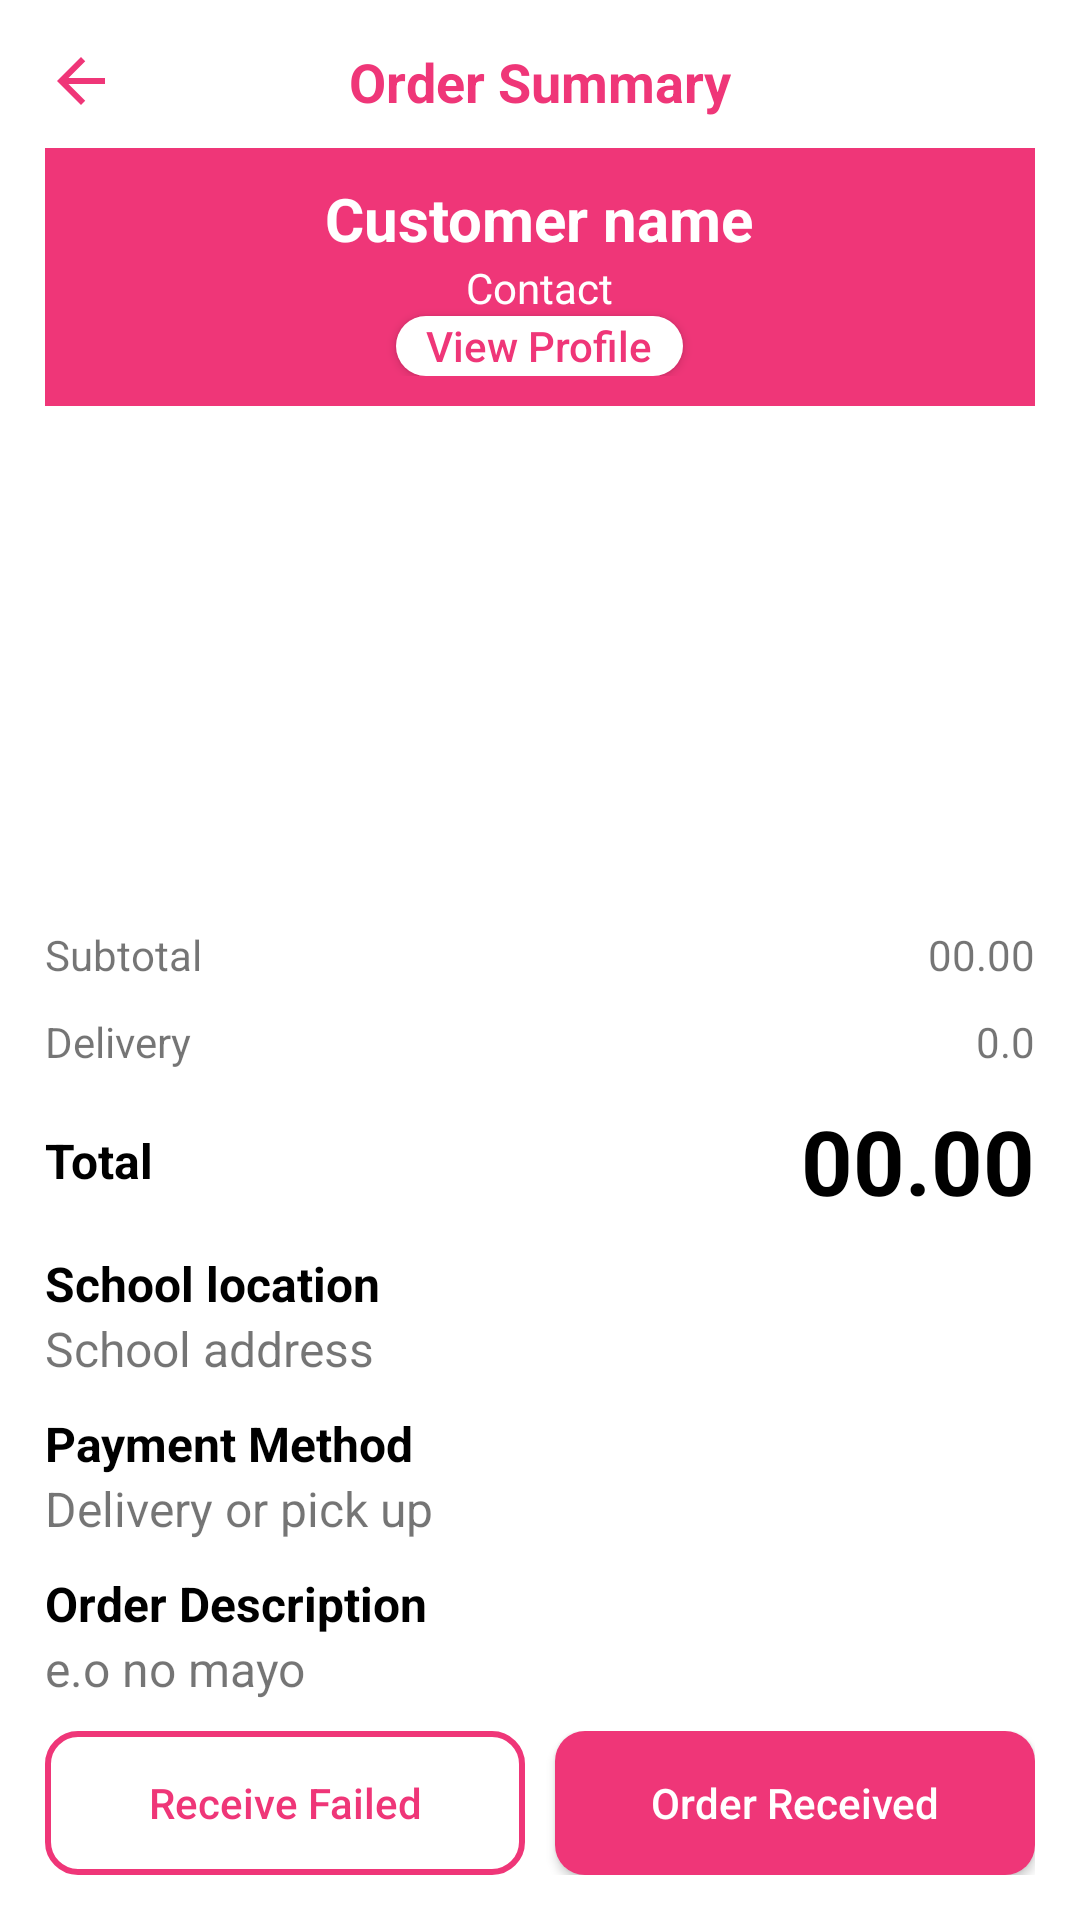

Point at icon controls on the screen. Image size 1080w x 1920h, points as (x,y).
back: (81,81)
